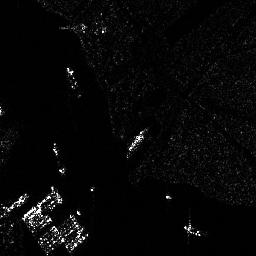ship: (126, 128, 146, 157), (64, 66, 79, 89), (181, 224, 201, 236)
